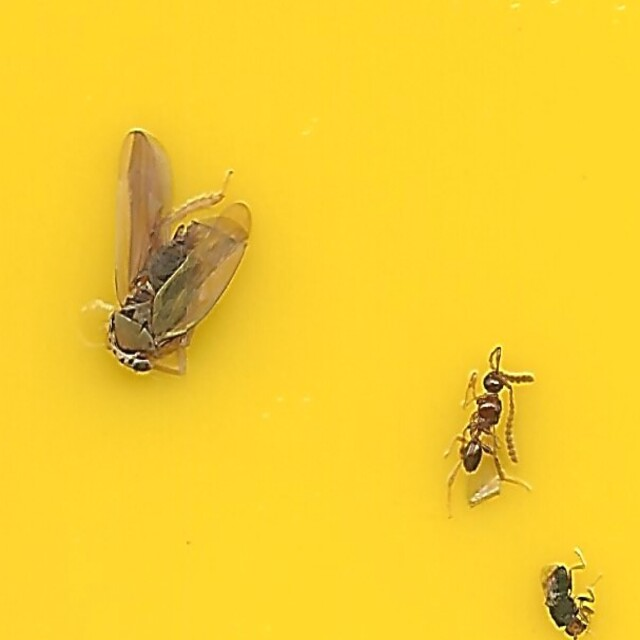Hemiptera: (105, 127, 256, 380)
Hymenoptera: (445, 350, 535, 513)
